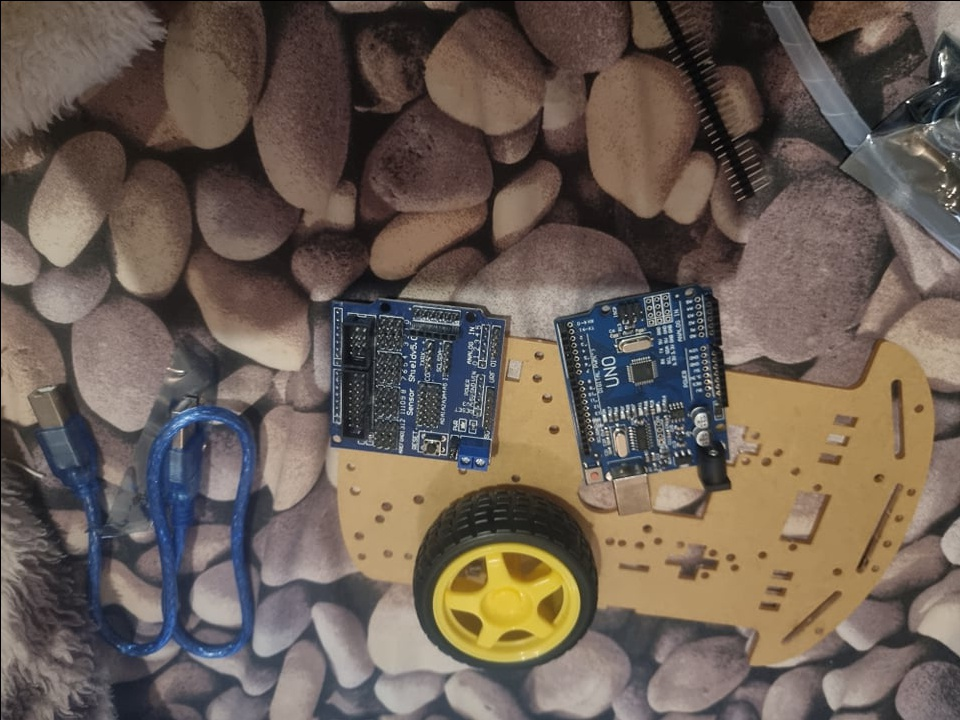5V EXPANSION: (329, 297, 503, 470)
UNO R3: (552, 284, 732, 514)
